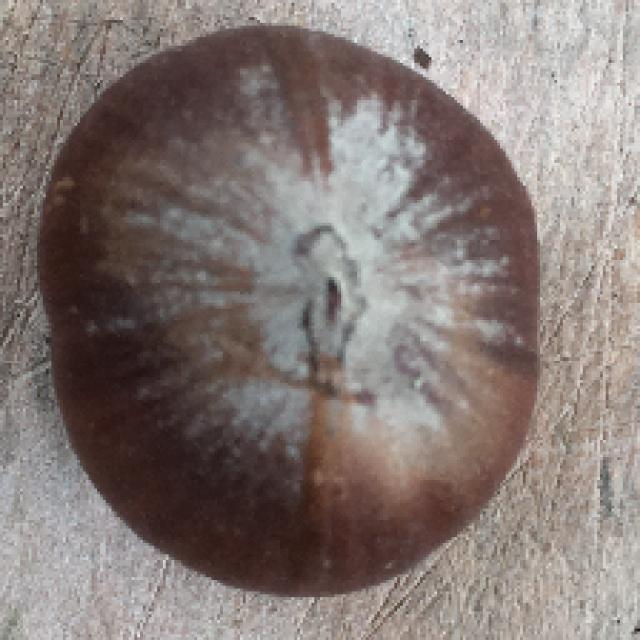qualityHazelnut: (39, 20, 551, 605)
